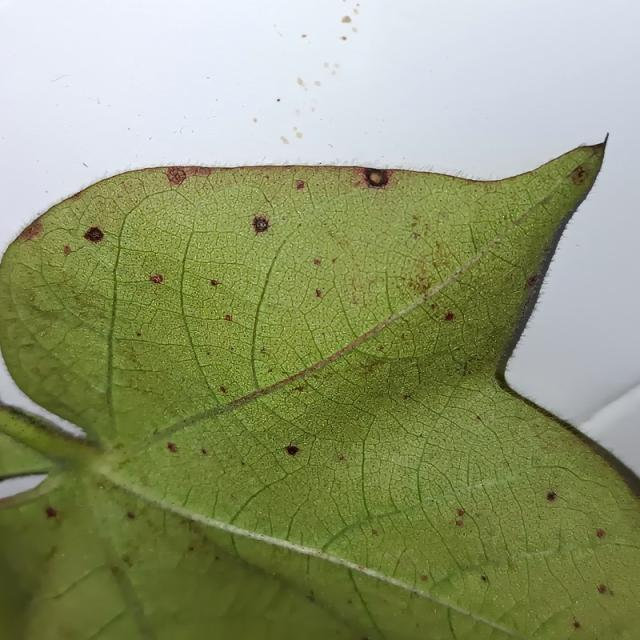Bacterial_Blight: (162, 165, 236, 185), (250, 206, 277, 239), (17, 218, 45, 242), (363, 168, 389, 188), (82, 225, 106, 244), (166, 167, 188, 185), (570, 166, 588, 185), (597, 583, 614, 598), (45, 506, 59, 519), (285, 444, 300, 456), (149, 273, 164, 285), (166, 442, 179, 453), (443, 311, 455, 322), (526, 276, 537, 288), (208, 278, 221, 288), (546, 491, 557, 502), (295, 180, 306, 190), (122, 554, 132, 565), (596, 529, 606, 539), (63, 245, 72, 256), (341, 15, 352, 23), (411, 232, 421, 240), (573, 620, 581, 629), (337, 454, 346, 462), (455, 519, 463, 527), (313, 258, 321, 266), (127, 511, 135, 519), (260, 347, 268, 355), (315, 289, 322, 298), (224, 314, 232, 321), (481, 575, 488, 583), (220, 386, 227, 394), (371, 529, 379, 536), (420, 575, 428, 582), (402, 394, 411, 400), (201, 447, 207, 455), (136, 332, 142, 337)
Cotton: (0, 143, 639, 639)
